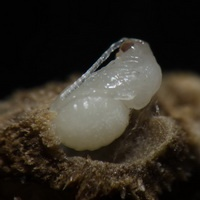insect: (50, 38, 161, 150)
